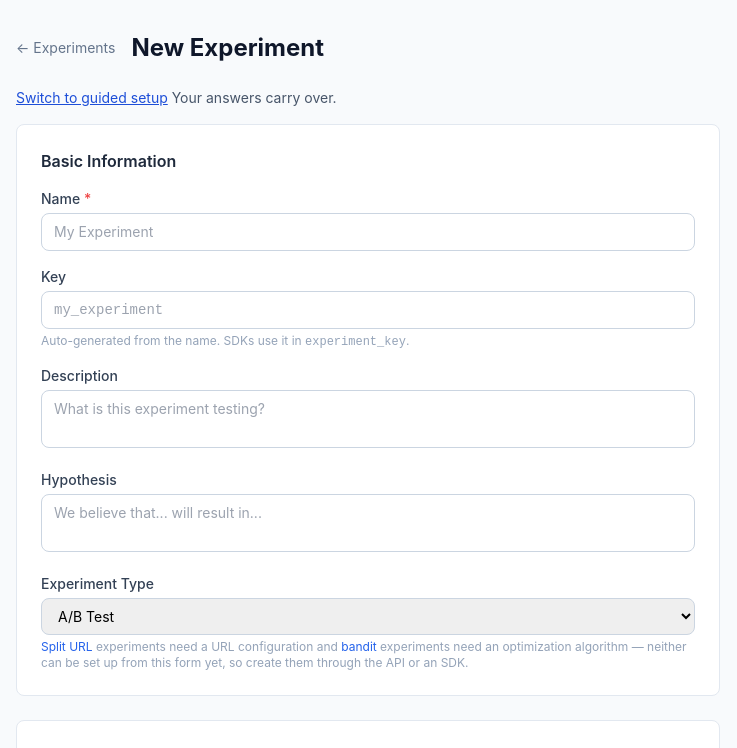
Test: NewExperimentPage › blocks submission client-side when allocations do not sum to 100
The width and height of the screenshot is (737, 748).
Type "Broken" into the field with test id "experiment-name". click: {"x": 368, "y": 232}
box: top-left (41, 213), bottom-right (695, 251)
(page scrolled)
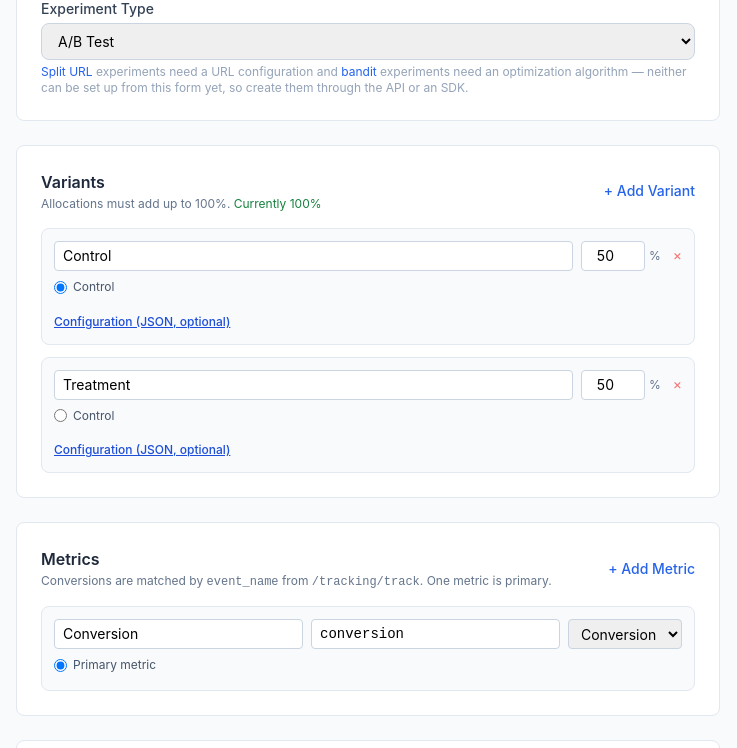
Replace the text in the number field with test id "variant-allocation-1" with "30". click: {"x": 613, "y": 384}
box: top-left (581, 370), bottom-right (645, 400)
(page scrolled)
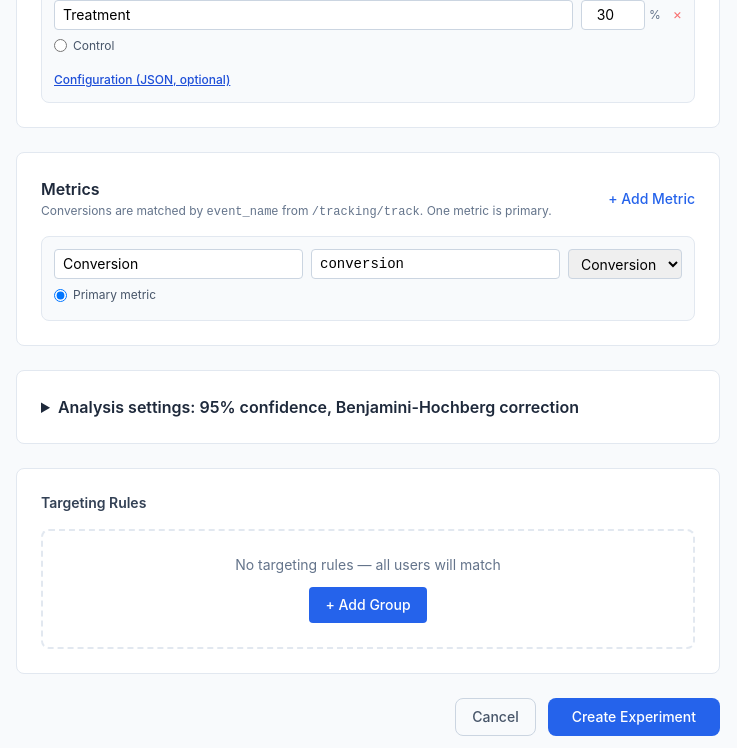
Click the button with test id "submit-experiment". click: {"x": 634, "y": 716}
box: top-left (548, 698), bottom-right (720, 736)
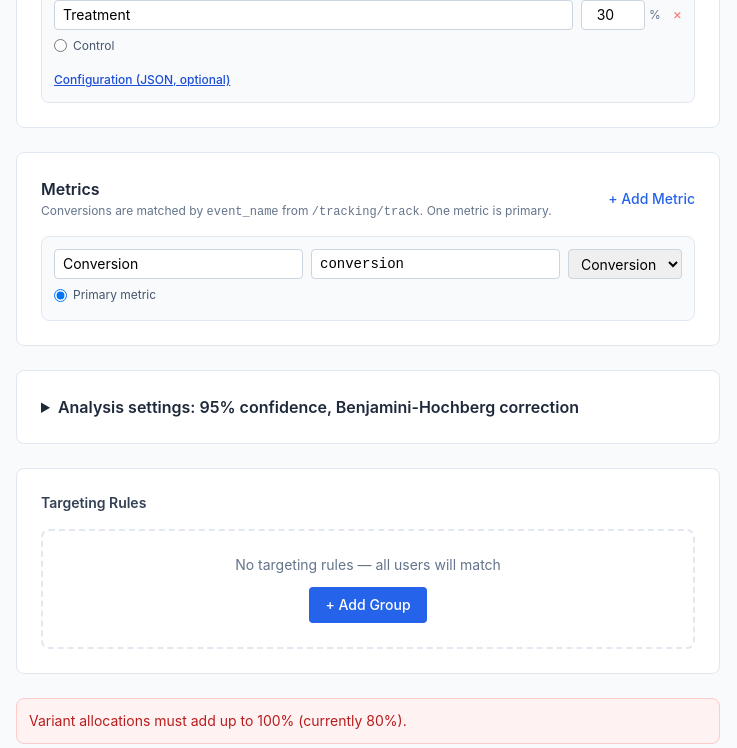
Expected: the message with test id "form-error" shows "add up to 100% (currently 80%)", top-left (29, 712), bottom-right (407, 728)
